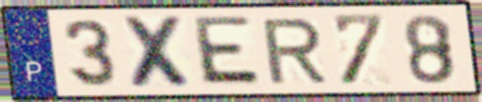3: (62, 18, 120, 88)
7: (332, 12, 388, 88)
8: (401, 12, 459, 86)
E: (193, 14, 265, 89)
R: (258, 15, 329, 86)
X: (119, 14, 199, 91)
